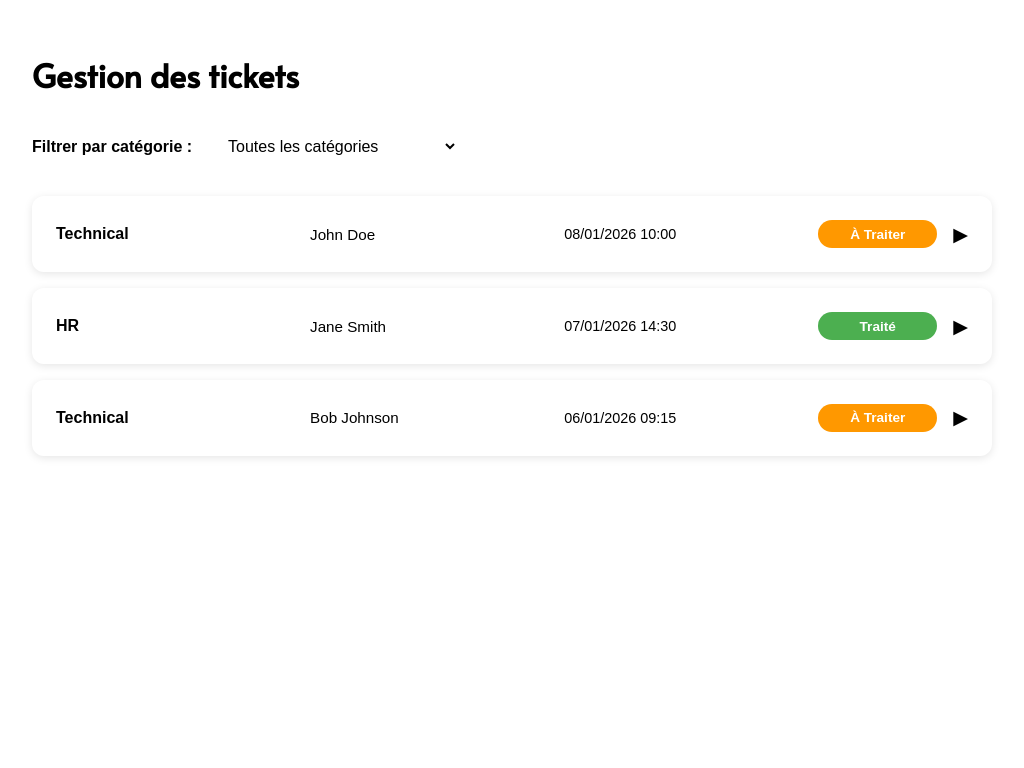
Test: TicketsManagement Component › Expands ticket details when header is clicked
What coordinates should you click on to do the following:
click the element with test id "ticket-header-1"
I would click on:
 (92, 234)
Its box is x1=56 y1=220 x2=968 y2=248.
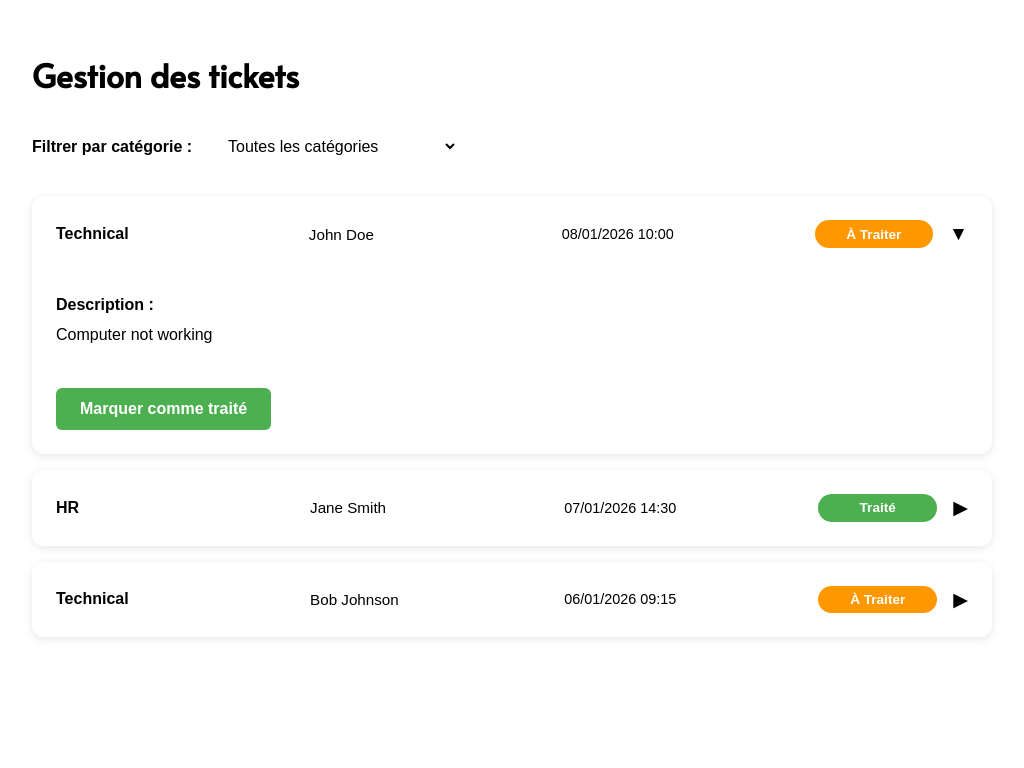
Expected: the element with test id "ticket-details-1" is shown, x1=56 y1=296 x2=271 y2=430
